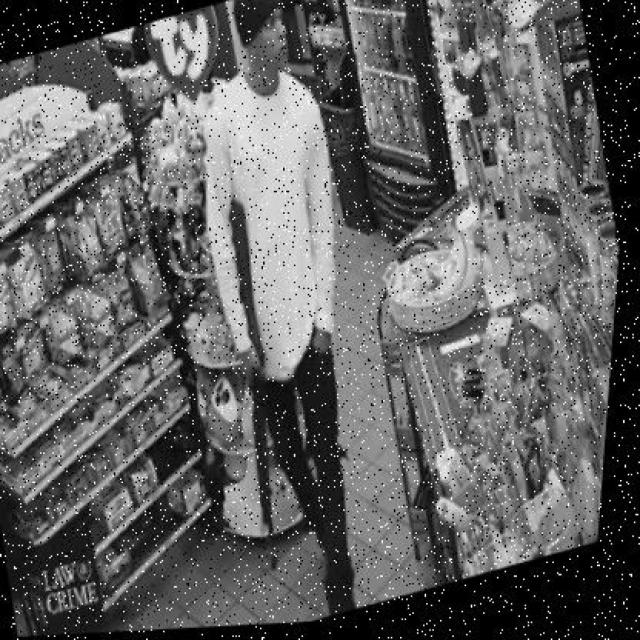weapon: (228, 198, 282, 572)
